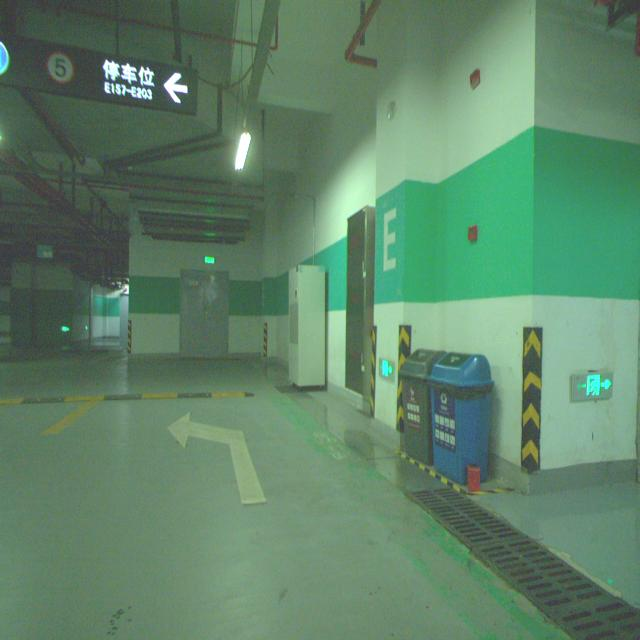wall: (371, 93, 435, 430)
